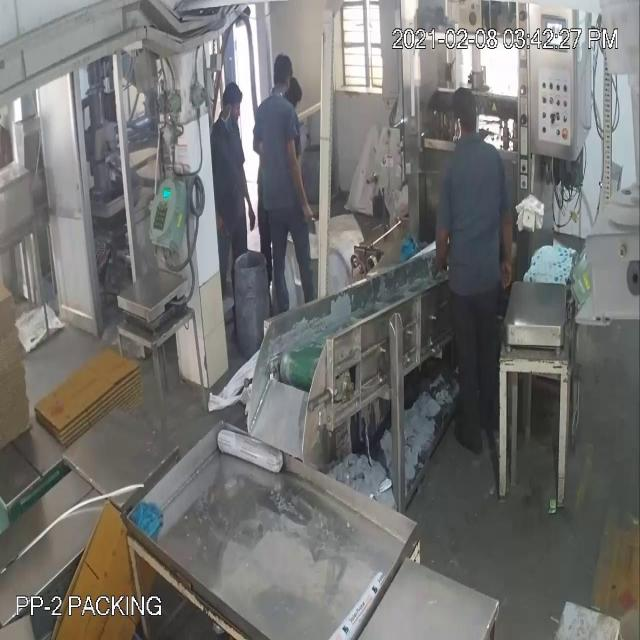No_Gloves: (20, 68, 508, 242)
